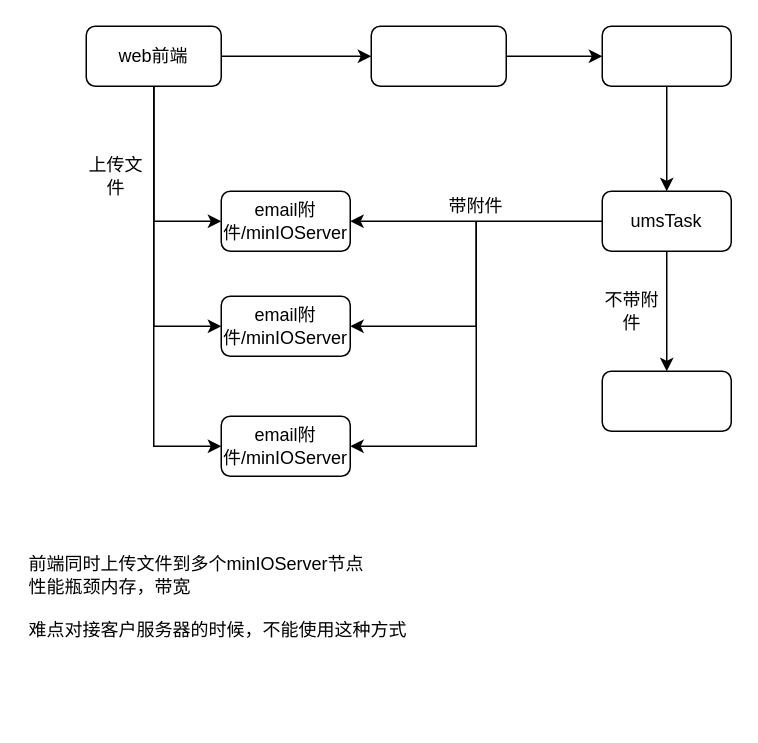
The diagram is 758 pixels wide and 743 high, and some of its shapes have lost their labels. Each missing label, with the centre of its shape:
"email" goes at point 666,400.
"PortalWebSvr" goes at point 438,55.
"restfulAPI" goes at point 666,55.
